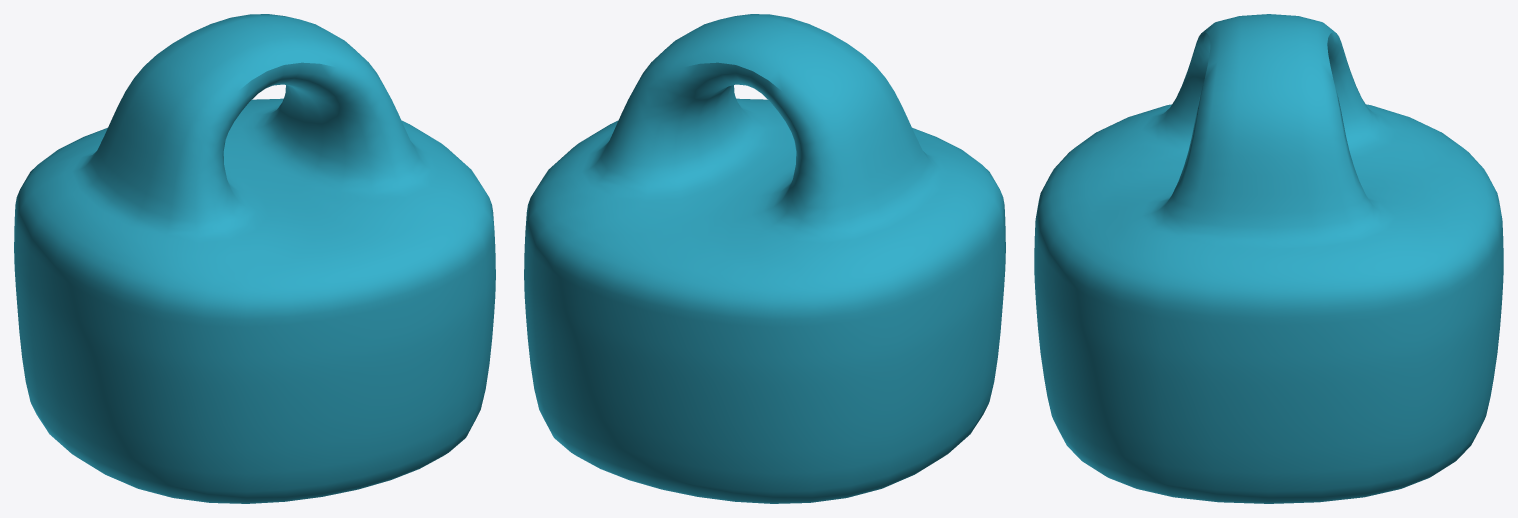
The picture shows the model from 3 angles, left to right: view 1: azimuth 30°, elevation 25°; view 2: azimuth 150°, elevation 25°; view 3: azimuth 270°, elevation 25°; orthographic projection.
Parts seen in each view (by area): view 1: Deckel3; view 2: Deckel3; view 3: Deckel3.
Boxes of the visible parts, x1,y1,x2,y2 form: Deckel3: (14, 14, 495, 503); Deckel3: (524, 14, 1005, 503); Deckel3: (1034, 14, 1503, 503).
Size of the model in its own units: 7.35 by 7.41 by 7.39.
